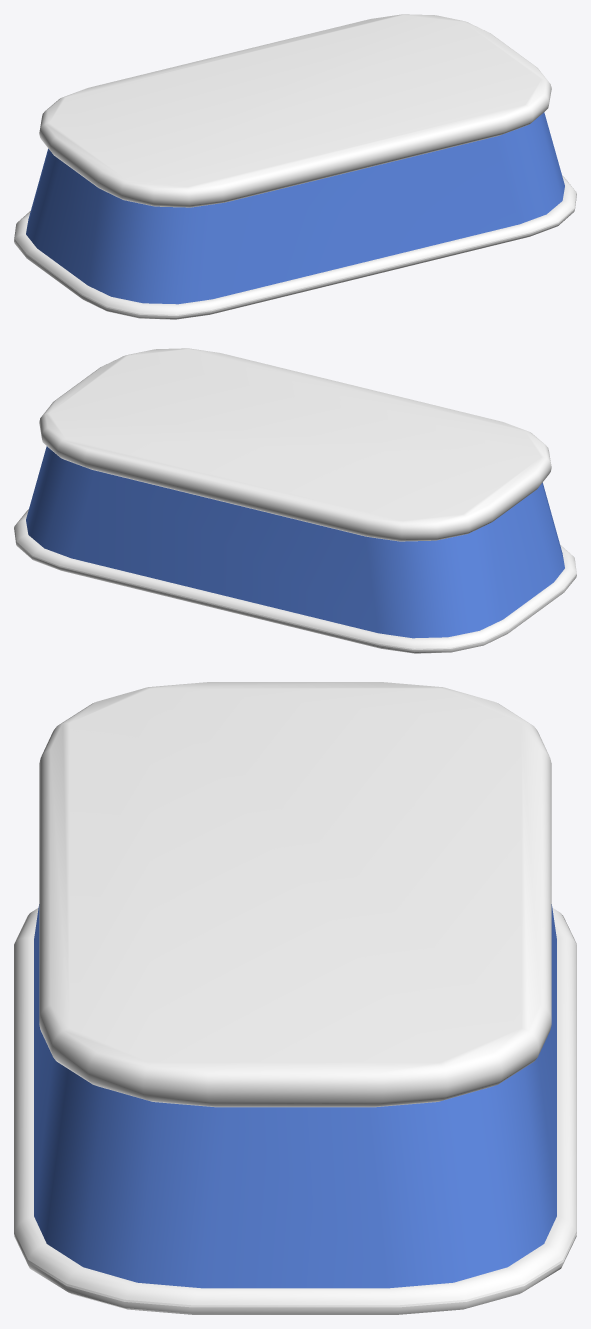
File: StoneWall042.fbx
3 views of the same model, one above another, from view 1: azimuth 30°, elevation 25°; view 2: azimuth 150°, elevation 25°; view 3: azimuth 270°, elevation 25° (orthographic). The views are drawn at different scales.
Visible parts, largest first — view 1: StoneWall042; view 2: StoneWall042; view 3: StoneWall042.
Boxes of the visible parts, left/top/right/bottom form: StoneWall042: left=14, top=14, right=576, bottom=319; StoneWall042: left=14, top=348, right=576, bottom=653; StoneWall042: left=14, top=682, right=576, bottom=1314.
Bounding box in the file's own units: 1003 × 240 × 547.
